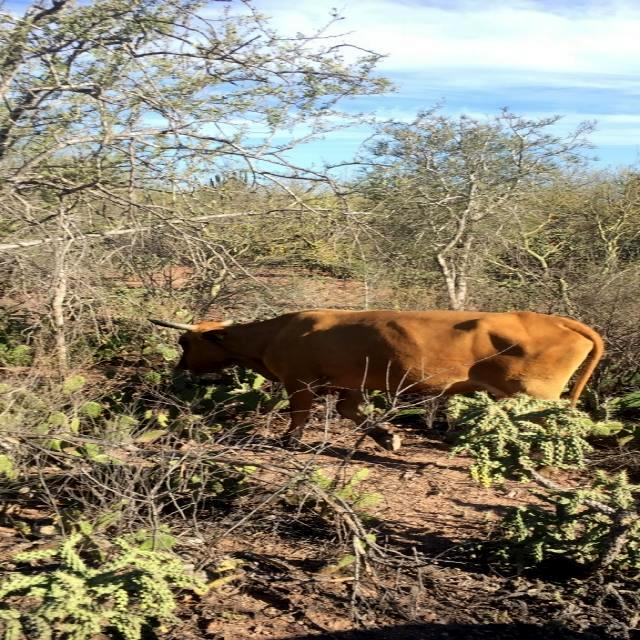COW: (152, 310, 604, 441)
